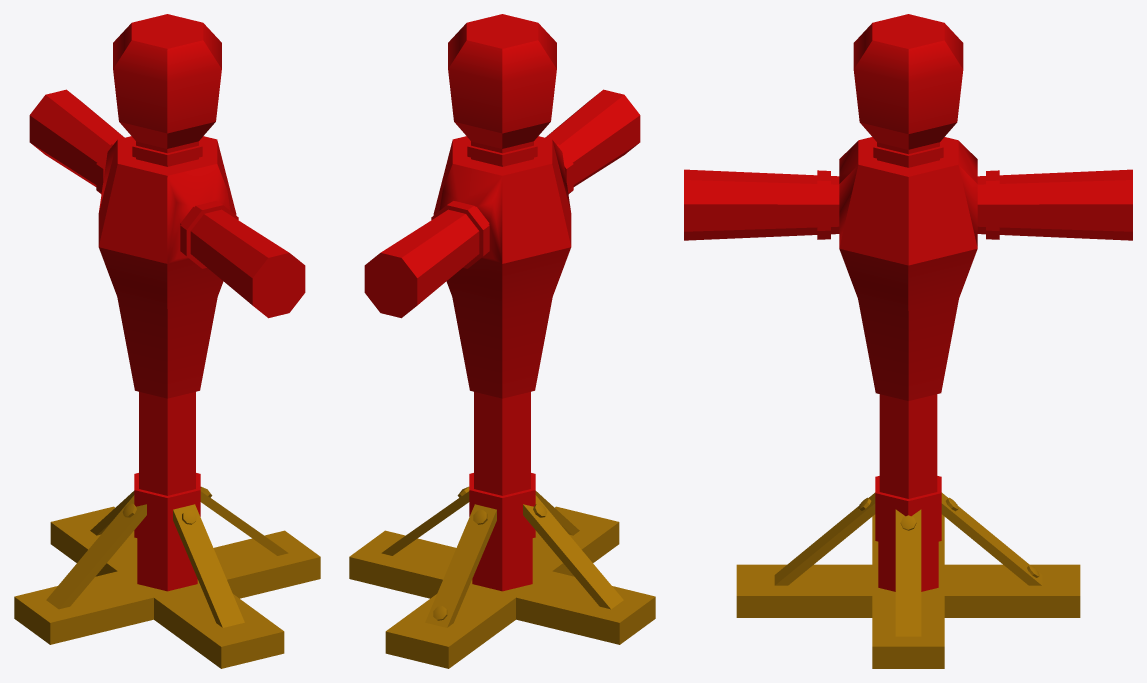
File: DummySeminarioIdleUVNuevo.fbx
3 views of the same model, side by side, from view 1: azimuth 30°, elevation 25°; view 2: azimuth 150°, elevation 25°; view 3: azimuth 270°, elevation 25° (orthographic).
Visible parts, largest first — view 1: pCylinder1, pCube2, pCube5, pCube4, pCube6; view 2: pCylinder1, pCube2, pCube3, pCube4, pCube6; view 3: pCylinder1, pCube2, pCube6, pCube5, pCube3.
Boxes of the visible parts, x1,y1,x2,y2 form: pCylinder1: [29, 14, 305, 591]; pCube2: [14, 506, 320, 668]; pCube5: [173, 504, 244, 627]; pCube4: [46, 495, 146, 609]; pCube6: [200, 491, 288, 555]; pCylinder1: [364, 14, 640, 591]; pCube2: [349, 506, 655, 668]; pCube3: [425, 504, 496, 627]; pCube4: [523, 495, 623, 609]; pCube6: [381, 491, 469, 555]; pCylinder1: [684, 14, 1132, 591]; pCube2: [736, 514, 1080, 668]; pCube6: [895, 509, 921, 636]; pCube5: [774, 492, 875, 585]; pCube3: [941, 492, 1042, 585].
Bounding box in the file's own units: 2.09 × 4.18 × 2.98.
